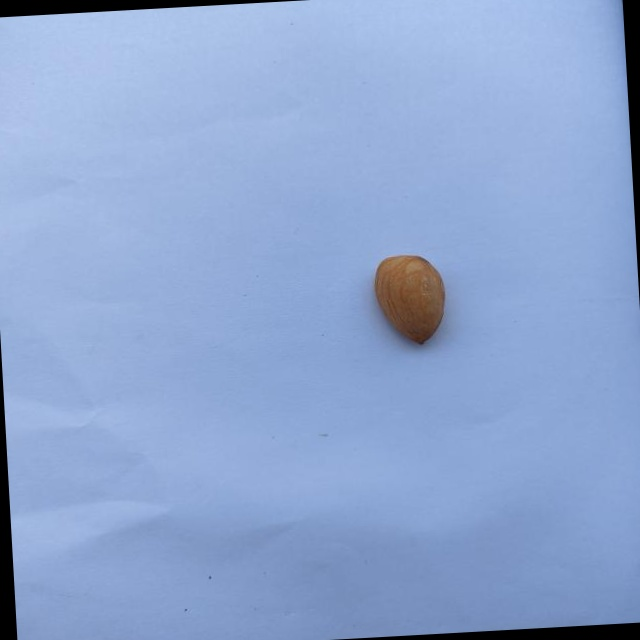grade2: (366, 250, 451, 350)
